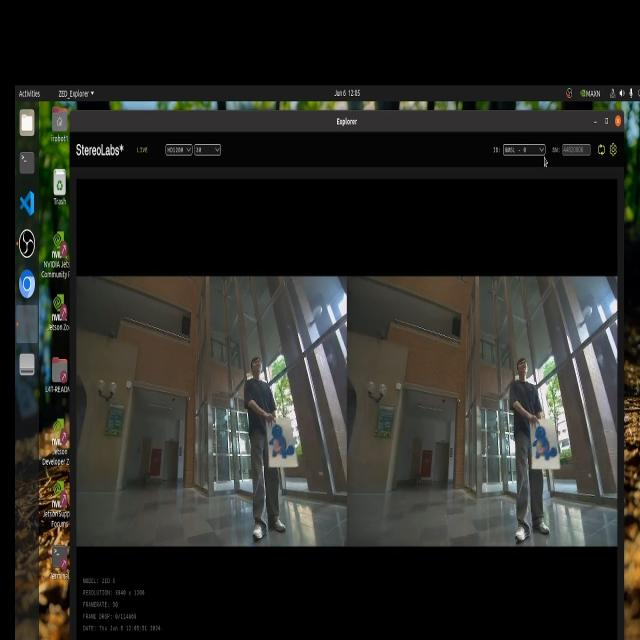blue: (263, 423, 296, 463), (528, 428, 553, 471)
